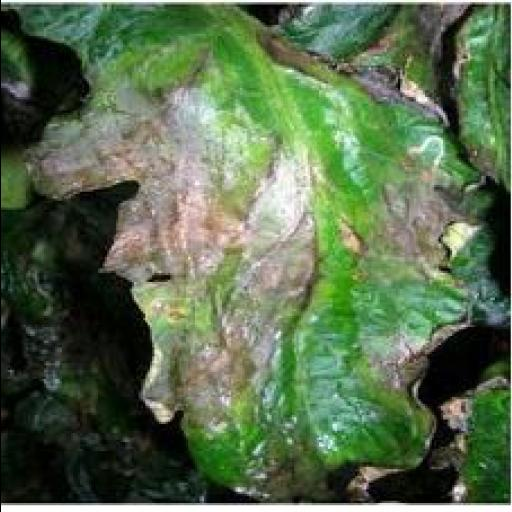disease_tomato: (16, 6, 480, 500)
